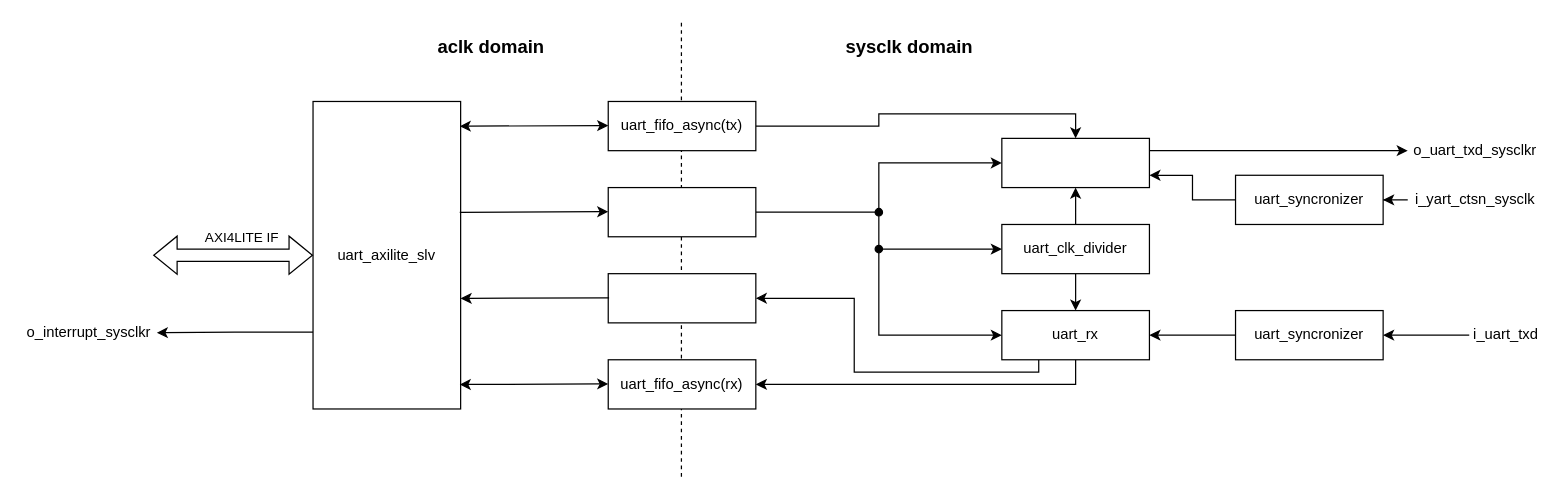
Some shapes in this 1563 by 499 pixel diagram are drawn without their labels. The shapes that lost their labels are listed below. From the top down, each one's box as (x1, y1, x2, y2) in pixels, then its label:
(1001, 137, 1149, 188): uart_tx
(607, 186, 756, 237): uart_sync_aclk2sys clk
(607, 272, 756, 323): uart_sync_sysclk2aclk
